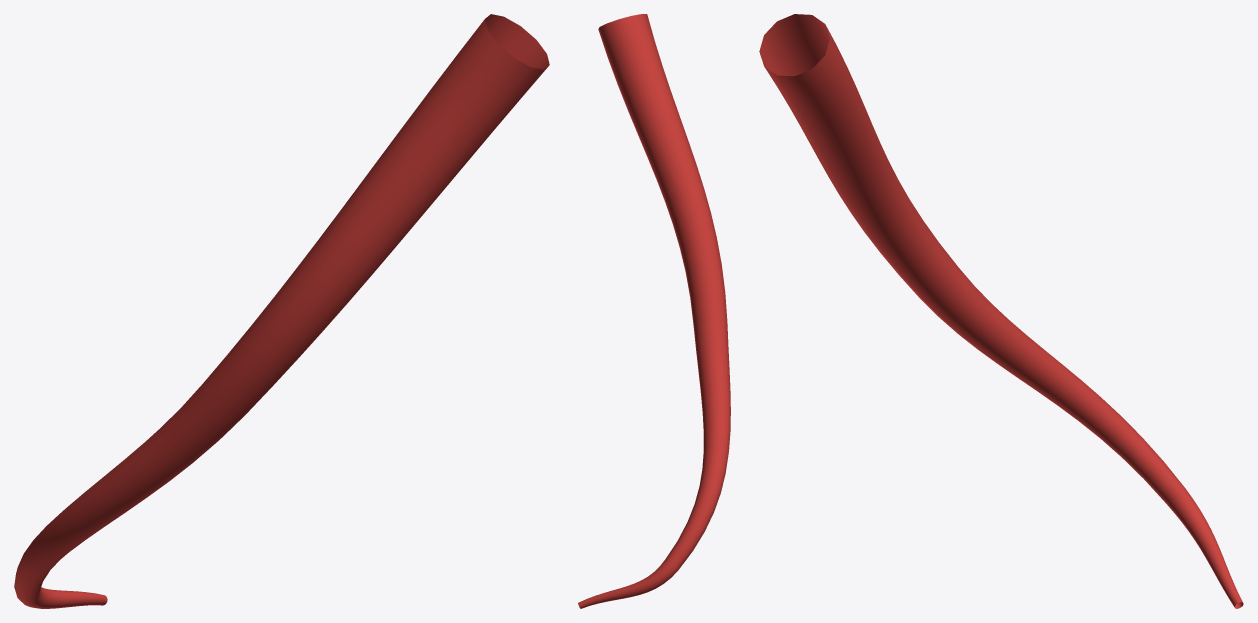
3 renders of one model, left to right at view 1: azimuth 30°, elevation 25°; view 2: azimuth 150°, elevation 25°; view 3: azimuth 270°, elevation 25°, orthographic. The views are drawn at different scales.
Visible parts, largest first — view 1: 胃十二指肠动脉; view 2: 胃十二指肠动脉; view 3: 胃十二指肠动脉.
Part boxes in pixels (bbox=[...]): 胃十二指肠动脉: bbox=[14, 14, 549, 608]; 胃十二指肠动脉: bbox=[578, 14, 730, 608]; 胃十二指肠动脉: bbox=[759, 14, 1243, 608].
Bounding box in the file's own units: 0.0217 × 0.0434 × 0.0287.
